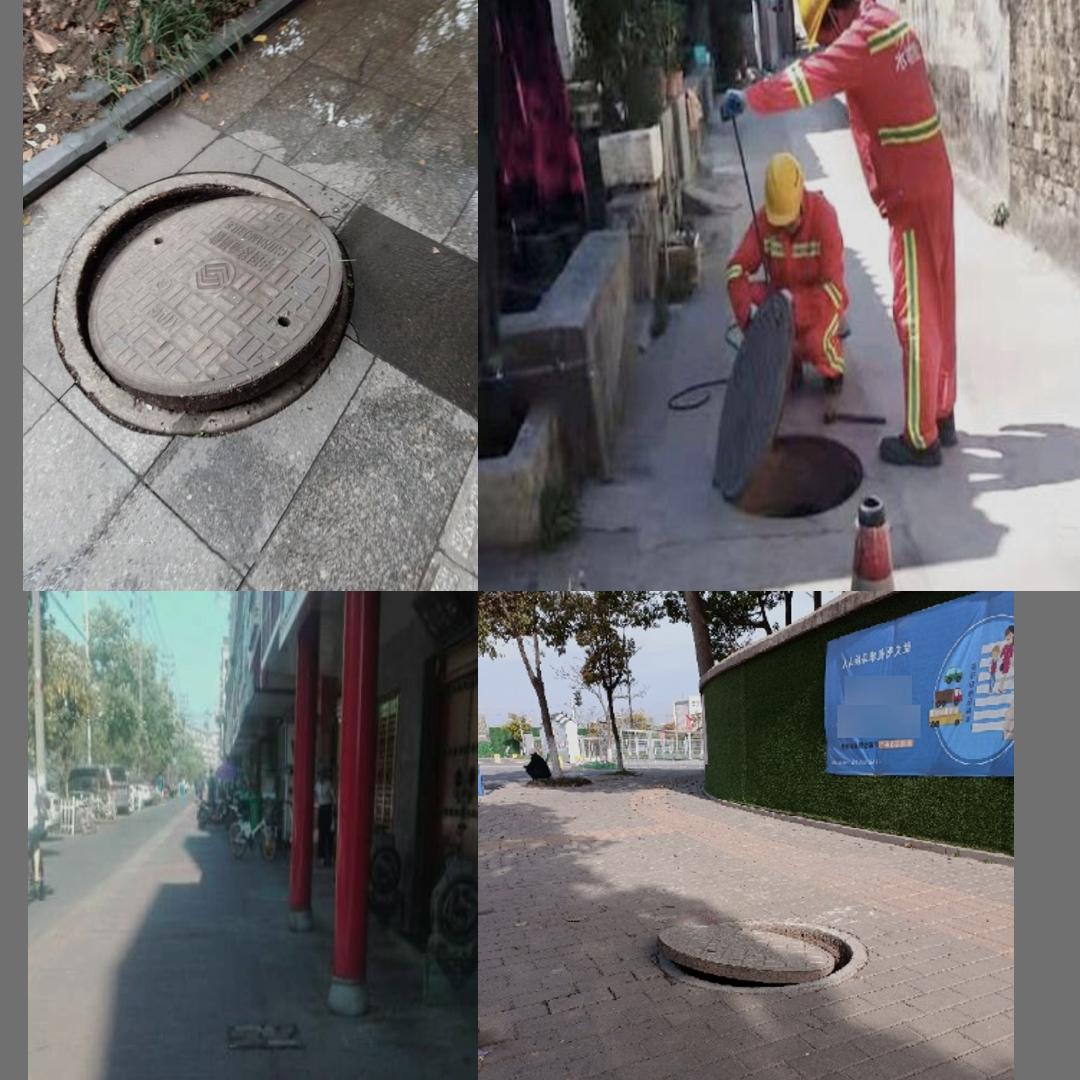uncovered: (53, 171, 354, 433), (692, 297, 869, 534), (654, 923, 868, 993)
